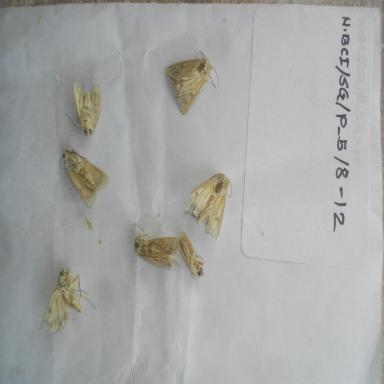abw: (55, 130, 114, 213), (35, 260, 99, 336), (163, 44, 222, 119), (182, 170, 235, 244), (61, 71, 108, 143), (128, 220, 186, 277), (170, 224, 208, 284)
